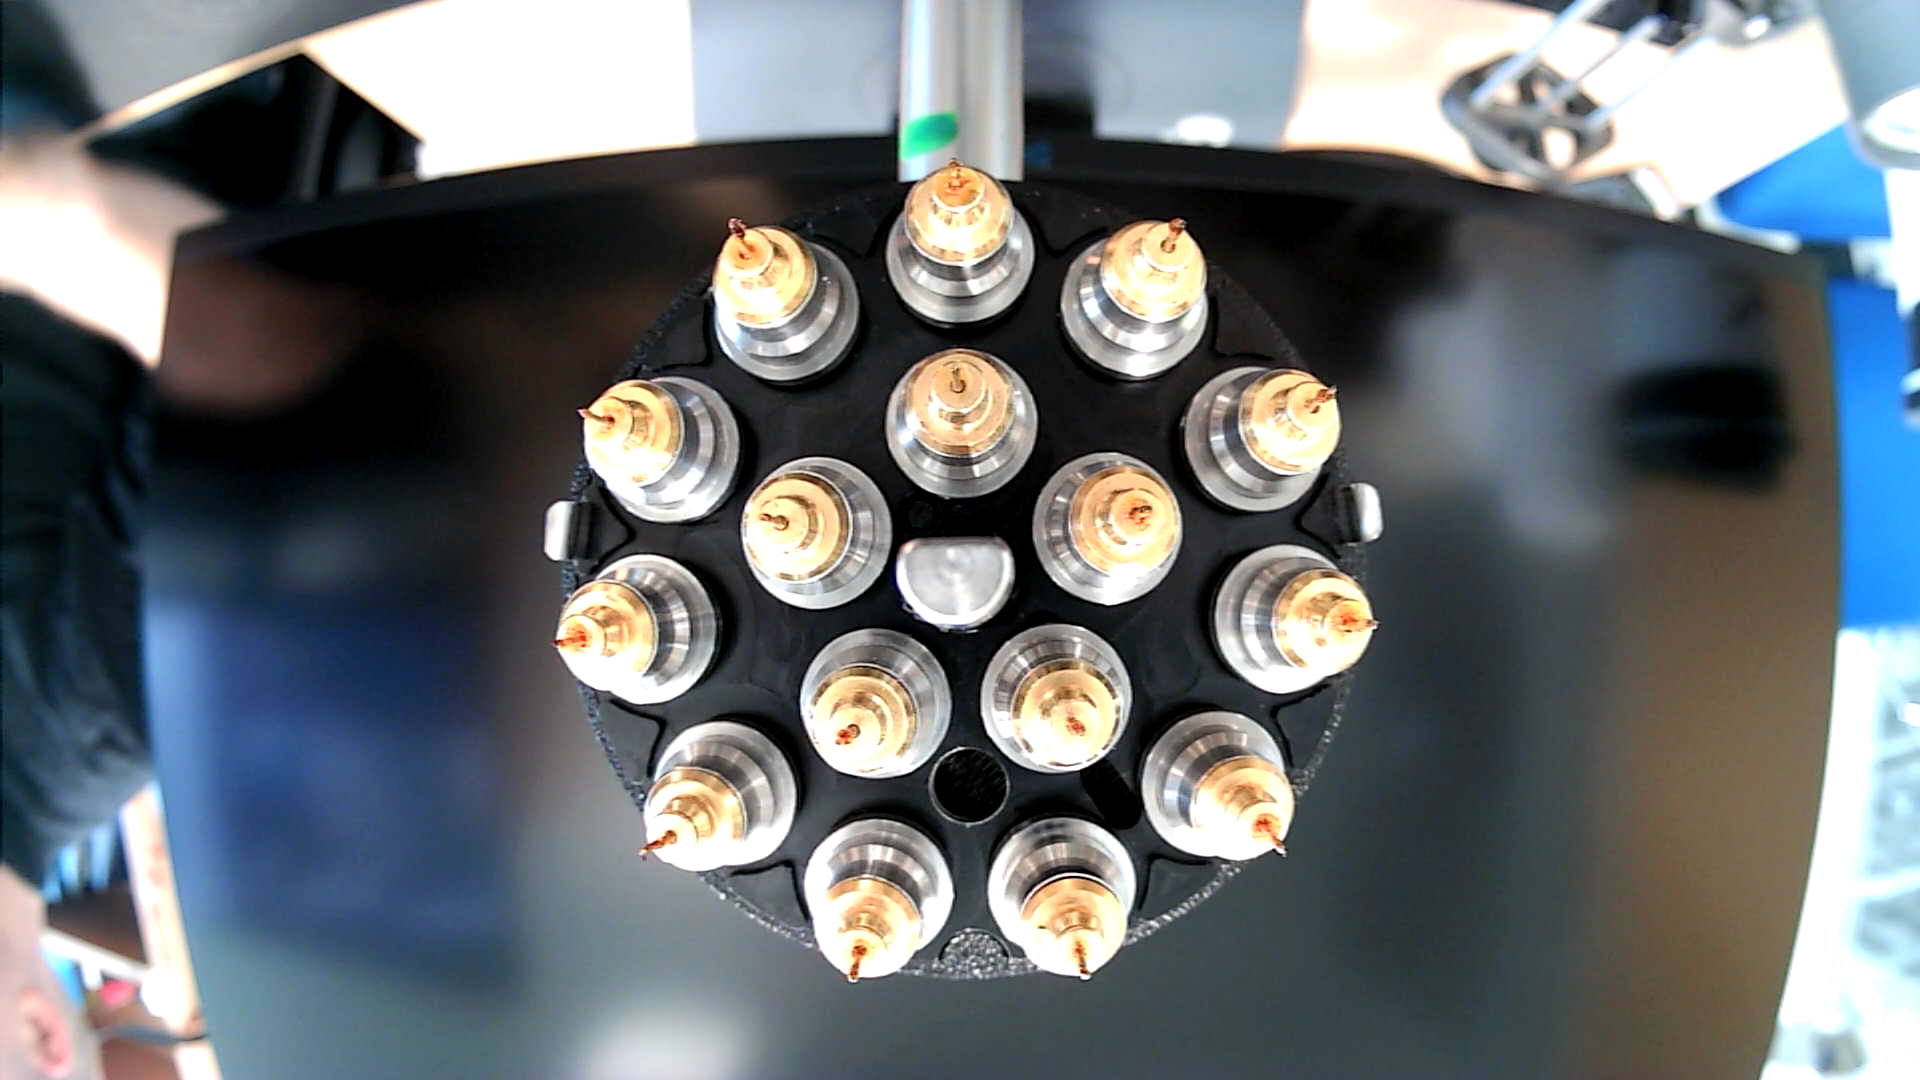hole: (927, 746, 1011, 829)
pin: (709, 214, 862, 389), (800, 815, 955, 986), (1209, 541, 1379, 695), (551, 553, 720, 707), (885, 157, 1036, 327), (986, 815, 1139, 982), (1059, 218, 1211, 385), (579, 372, 741, 527), (1182, 364, 1345, 517), (738, 452, 891, 615), (640, 717, 796, 874), (1031, 447, 1185, 607), (884, 347, 1040, 502), (1139, 709, 1299, 862), (980, 622, 1135, 778), (798, 626, 953, 781)
rod: (895, 535, 1021, 632)
